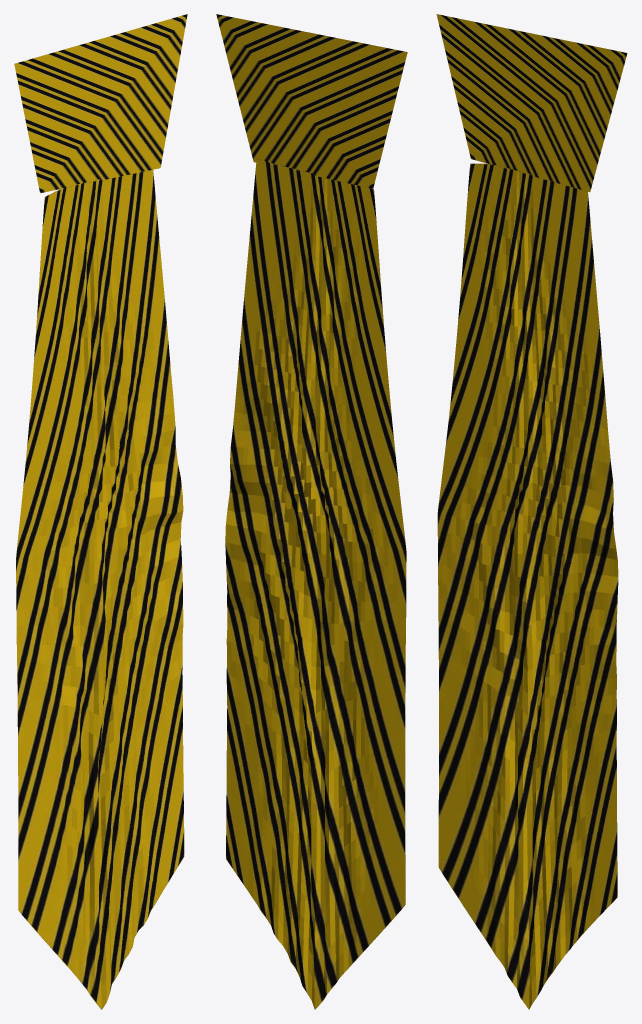
The model's file is Corbata.fbx.
3 views of the same model, side by side, from view 1: azimuth 30°, elevation 25°; view 2: azimuth 150°, elevation 25°; view 3: azimuth 330°, elevation 25° (orthographic).
Visible parts, largest first — view 1: Plane, Plane.001; view 2: Plane, Plane.001; view 3: Plane, Plane.001.
Part boxes in pixels (left/top/right/bottom): Plane: left=16, top=169, right=184, bottom=1009; Plane.001: left=14, top=14, right=187, bottom=193; Plane: left=225, top=159, right=406, bottom=1009; Plane.001: left=216, top=14, right=407, bottom=188; Plane: left=437, top=163, right=618, bottom=1009; Plane.001: left=436, top=14, right=627, bottom=192.
Bounding box in the file's own units: 199 × 1017 × 17.57.
Materials: 2 (2 with a texture image).
